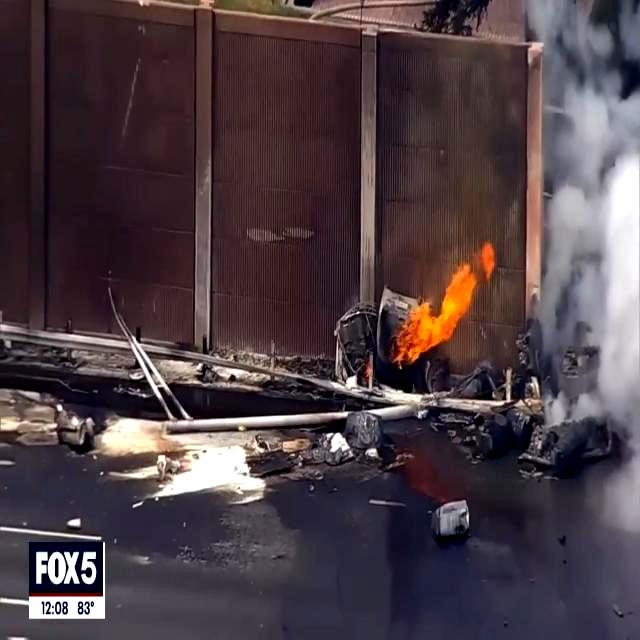fire: (396, 237, 498, 376)
